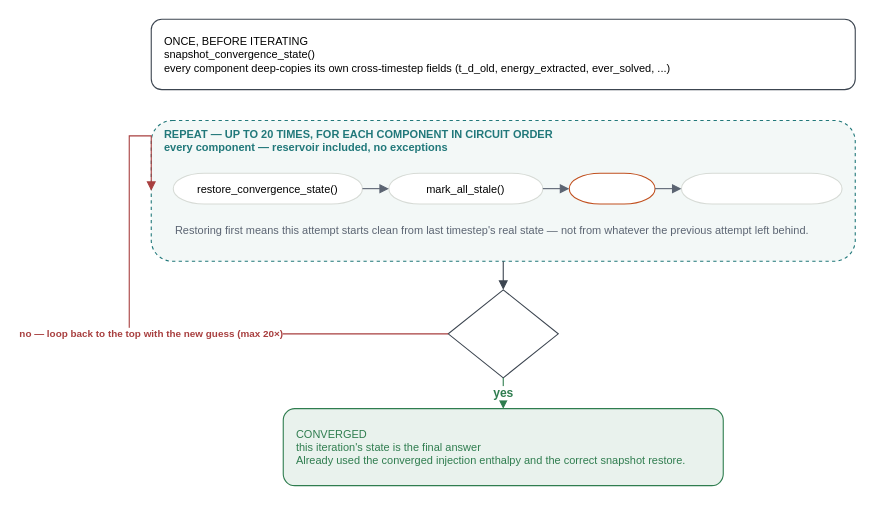
The diagram is 875 pixels wide and 505 high, and some of its shapes have lost their labels. Here are the shapes that lost their labels. From the top down, the centre of each, then its label:
At pixel 611 188: "solve()".
At pixel 761 188: "wire outlet → next inlet".
At pixel 502 333: "|Δh inj | < 1 kJ/kg?".
